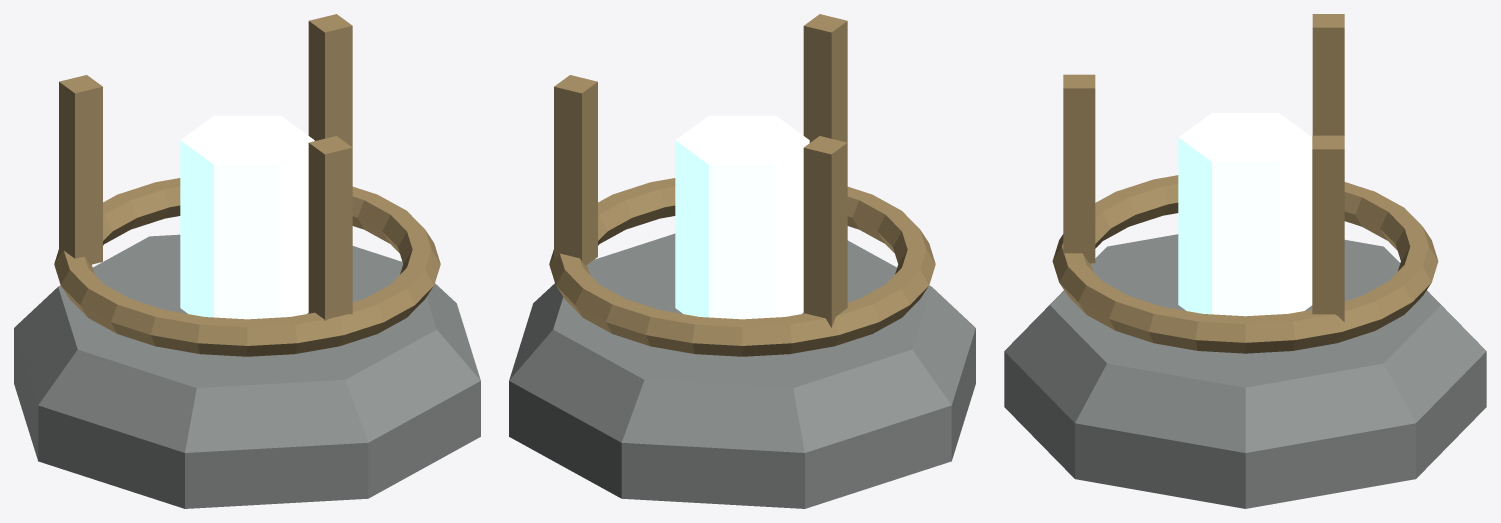
The model's file is building-mana-well.glb.
The picture shows the model from 3 angles, left to right: view 1: azimuth 30°, elevation 25°; view 2: azimuth 150°, elevation 25°; view 3: azimuth 270°, elevation 25°; orthographic projection.
Parts seen in each view (by area): view 1: Body; view 2: Body; view 3: Body.
Boxes of the visible parts, x1,y1,x2,y2 form: Body: (14,14,480,508); Body: (509,14,975,508); Body: (1004,14,1486,508).
Size of the model in its own units: 1.8 by 1.34 by 1.8.
